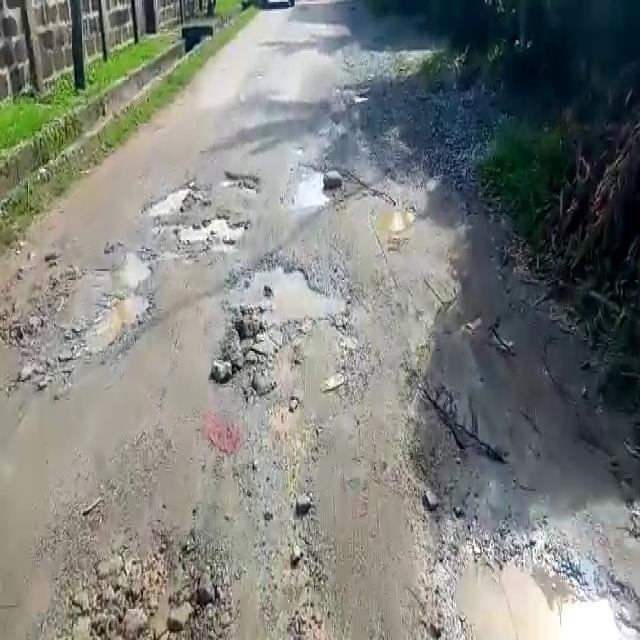pothole: (409, 528, 637, 640), (51, 253, 156, 369), (224, 258, 352, 323), (368, 192, 420, 237), (285, 166, 336, 211), (181, 214, 248, 245), (145, 183, 194, 218), (218, 169, 263, 194)
